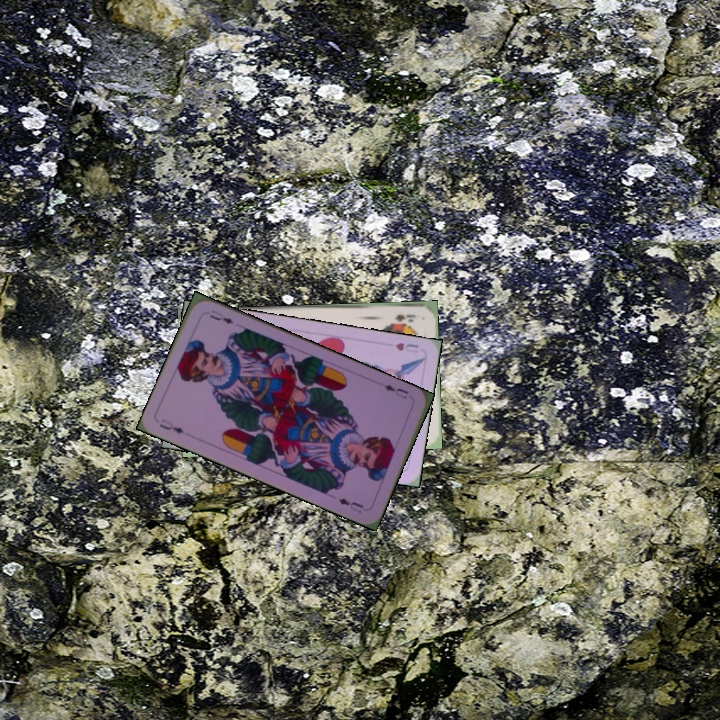EU: (380, 380, 411, 402), (155, 415, 186, 436)
HU: (391, 338, 421, 356)
SO: (391, 310, 418, 324)
